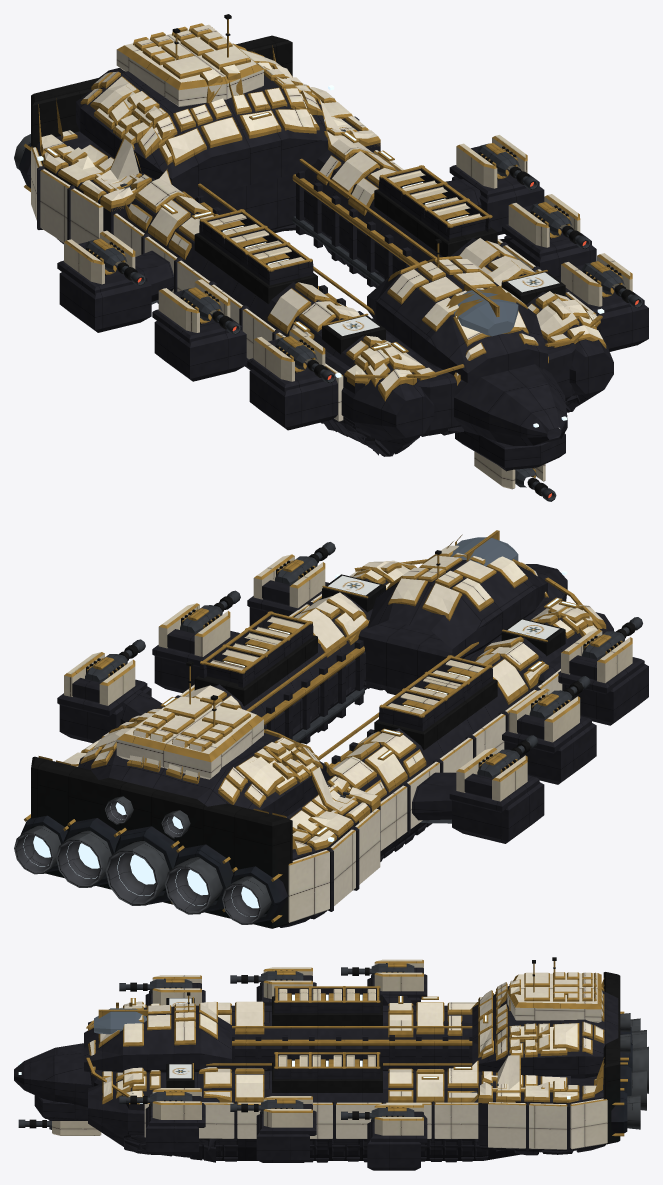
File: europa-schiff4.glb
The picture shows the model from 3 angles, top to bottom: view 1: azimuth 30°, elevation 25°; view 2: azimuth 150°, elevation 25°; view 3: azimuth 270°, elevation 25°; orthographic projection. The views are drawn at different scales.
Visible parts, largest first — view 1: Hull_LOD0, Laser_03, Laser_05, Laser_01, Laser_02, Laser_04, Laser_06; view 2: Hull_LOD0, EngineLight, Laser_02, Laser_06, Laser_04, Laser_03, Laser_05, Laser_01, Faction_Insignia_Left, Insignia_ClanSlot_Right; view 3: Hull_LOD0, Laser_01, Laser_02, Laser_04, Laser_06, Laser_03, Laser_05, Faction_Insignia_Left.
Boxes of the visible parts, box(x1,y1,x2,y2) form: Hull_LOD0: box(14, 14, 648, 489); Laser_03: box(529, 202, 590, 249); Laser_05: box(477, 143, 538, 190); Laser_01: box(582, 261, 642, 308); Laser_02: box(275, 336, 335, 383); Laser_04: box(180, 287, 240, 334); Laser_06: box(85, 238, 145, 286); Hull_LOD0: box(14, 530, 648, 928); EngineLight: box(23, 802, 259, 916); Laser_02: box(582, 617, 642, 659); Laser_06: box(477, 735, 538, 778); Laser_04: box(529, 676, 590, 719); Laser_03: box(180, 590, 240, 633); Laser_05: box(85, 639, 145, 682); Laser_01: box(275, 542, 335, 584); Faction_Insignia_Left: box(328, 575, 379, 595); Insignia_ClanSlot_Right: box(507, 619, 559, 639); Hull_LOD0: box(14, 957, 648, 1170); Laser_01: box(119, 1091, 192, 1106); Laser_02: box(119, 978, 192, 993); Laser_04: box(230, 970, 303, 985); Laser_06: box(341, 963, 414, 977); Laser_03: box(230, 1099, 303, 1114); Laser_05: box(341, 1107, 414, 1122); Faction_Insignia_Left: box(169, 1064, 191, 1078).
Bounding box in the file's own units: 38 × 19.05 × 61.8.
Materials: 6 (4 with a texture image).
